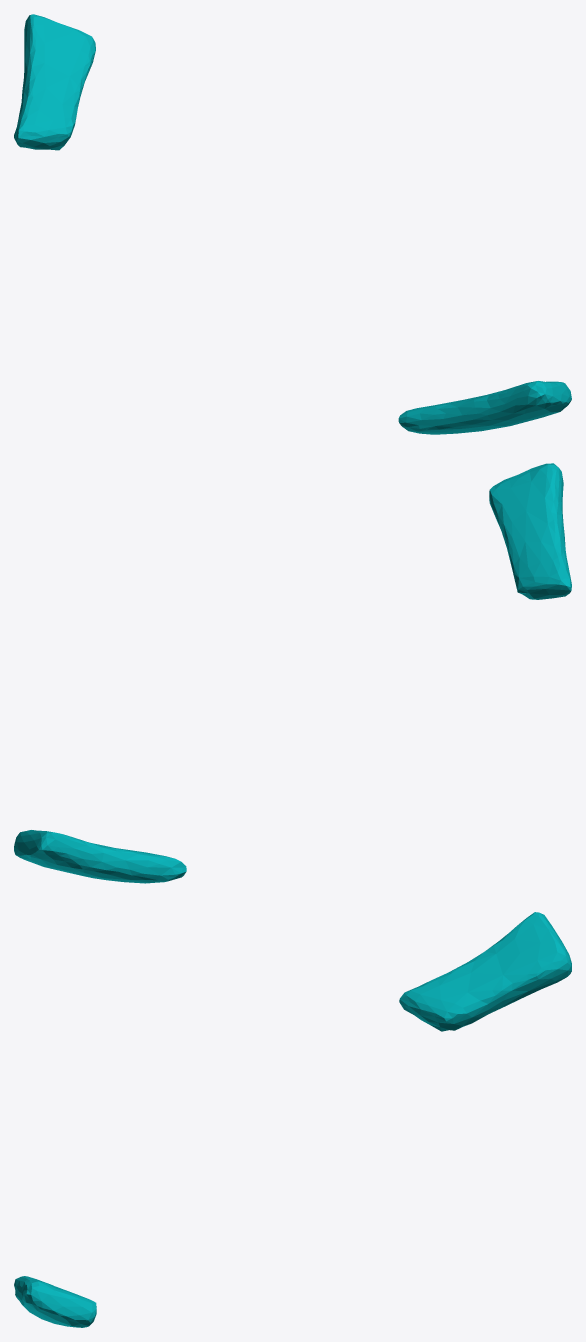
The picture shows the model from 3 angles, top to bottom: view 1: azimuth 30°, elevation 25°; view 2: azimuth 150°, elevation 25°; view 3: azimuth 330°, elevation 25°; orthographic projection.
Parts seen in each view (by area): view 1: 312782616.obj; view 2: 312782616.obj; view 3: 312782616.obj.
Part boxes in pixels (left/top/right/bottom): 312782616.obj: left=14, top=14, right=571, bottom=434; 312782616.obj: left=14, top=463, right=571, bottom=883; 312782616.obj: left=14, top=912, right=571, bottom=1327.
Size of the model in its own units: 983 by 617 by 6970.
